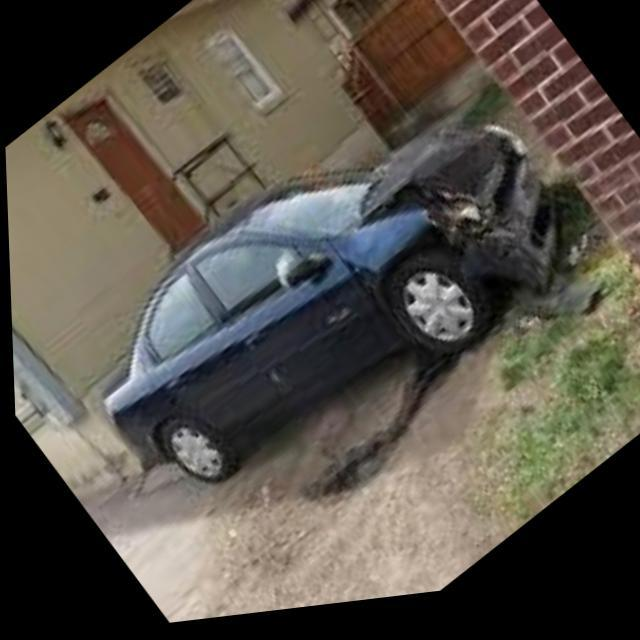dislocated part: (343, 136, 560, 316)
